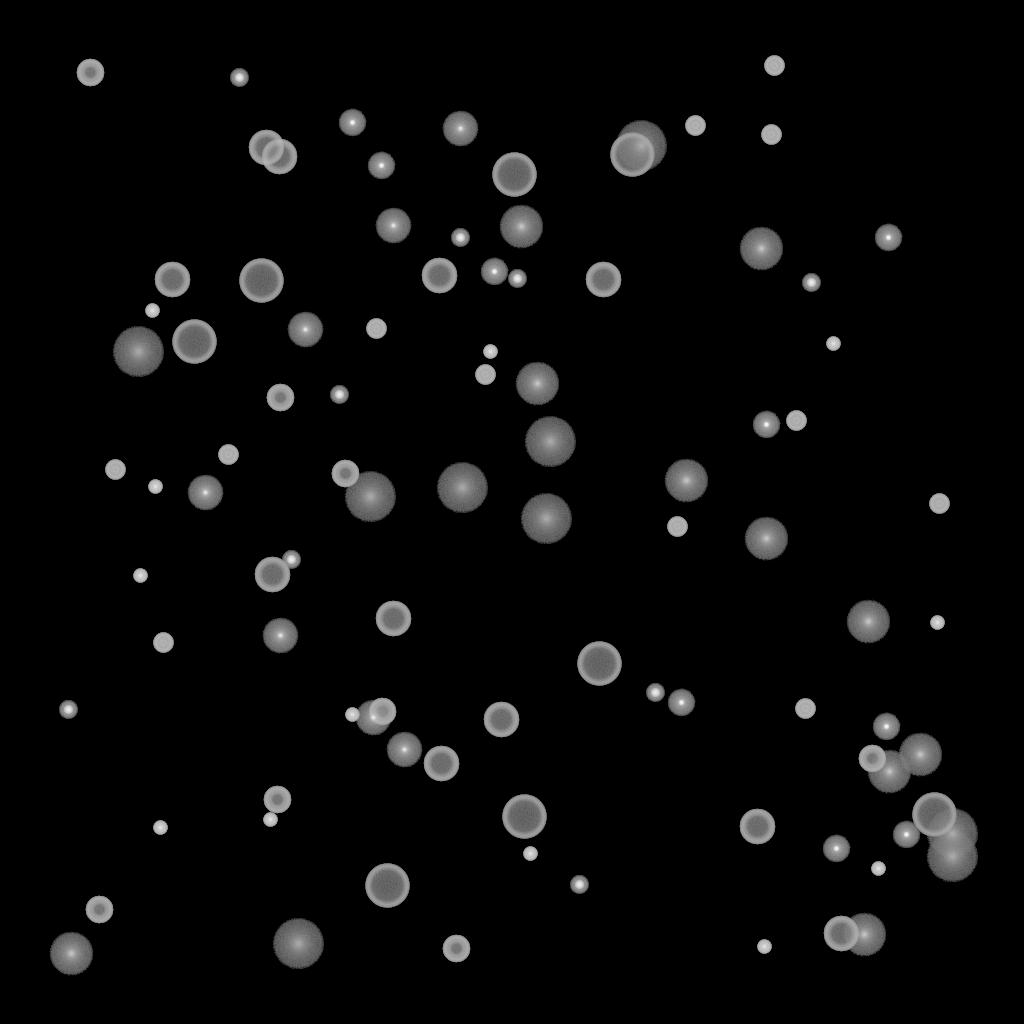depth:-10: (874, 224, 902, 252), (667, 689, 695, 717), (367, 152, 395, 180), (892, 821, 920, 849), (338, 109, 366, 137), (872, 713, 900, 741), (752, 411, 780, 439), (480, 258, 508, 286), (822, 835, 850, 863)
depth:-20: (59, 701, 77, 719), (570, 876, 588, 894), (646, 684, 664, 702), (230, 69, 248, 87), (508, 270, 526, 288), (451, 229, 469, 247), (282, 551, 300, 569), (802, 274, 820, 292), (330, 386, 348, 404)
depth:-30: (871, 862, 885, 876), (483, 345, 497, 359), (145, 304, 159, 318), (523, 847, 537, 861), (826, 337, 840, 351), (148, 480, 162, 494), (153, 821, 167, 835), (345, 708, 359, 722), (757, 940, 771, 954), (930, 616, 944, 630), (133, 569, 147, 583), (263, 813, 277, 827)
depth:-40: (764, 56, 784, 76), (929, 494, 949, 514), (153, 633, 173, 653), (761, 125, 781, 145), (685, 116, 705, 136), (366, 319, 386, 339), (105, 460, 125, 480), (667, 517, 687, 537), (795, 699, 815, 719), (475, 365, 495, 385), (218, 445, 238, 465), (786, 411, 806, 431)
depth:-50: (368, 698, 396, 726), (442, 935, 470, 963), (85, 896, 113, 924), (266, 384, 294, 412), (858, 745, 886, 773), (263, 786, 291, 814), (331, 460, 359, 488), (76, 59, 104, 87)
depth:-60: (823, 916, 859, 952), (585, 262, 621, 298), (739, 809, 775, 845), (483, 702, 519, 738), (261, 139, 297, 175), (423, 746, 459, 782), (421, 258, 457, 294), (254, 557, 290, 593), (248, 130, 284, 166), (154, 262, 190, 298), (375, 601, 411, 637)
depth:-70: (172, 320, 216, 364), (610, 133, 654, 177), (239, 259, 283, 303), (365, 864, 409, 908), (912, 793, 956, 837), (492, 153, 536, 197), (502, 795, 546, 839), (577, 642, 621, 686)
depth:0: (355, 700, 391, 736), (187, 475, 223, 511), (287, 312, 323, 348), (442, 111, 478, 147), (375, 208, 411, 244), (386, 732, 422, 768), (262, 618, 298, 654)
depth:10: (842, 913, 886, 957), (739, 227, 783, 271), (49, 932, 93, 976), (499, 205, 543, 249), (515, 362, 559, 406), (898, 733, 942, 777), (744, 517, 788, 561), (867, 750, 911, 794), (664, 459, 708, 503), (846, 600, 890, 644)
depth:20: (926, 809, 978, 859), (524, 417, 576, 467), (615, 121, 667, 171), (344, 472, 396, 522), (520, 494, 572, 544), (926, 832, 978, 882), (112, 327, 164, 377), (436, 463, 488, 513), (272, 919, 324, 969)
